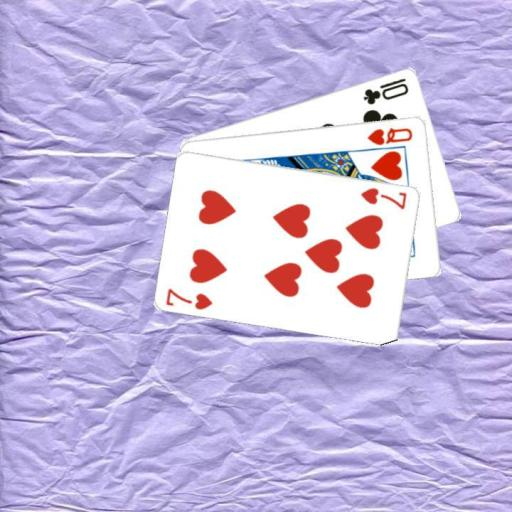10C: (360, 74, 410, 106)
7H: (358, 184, 409, 211), (163, 285, 214, 312)
QH: (365, 124, 415, 147)
